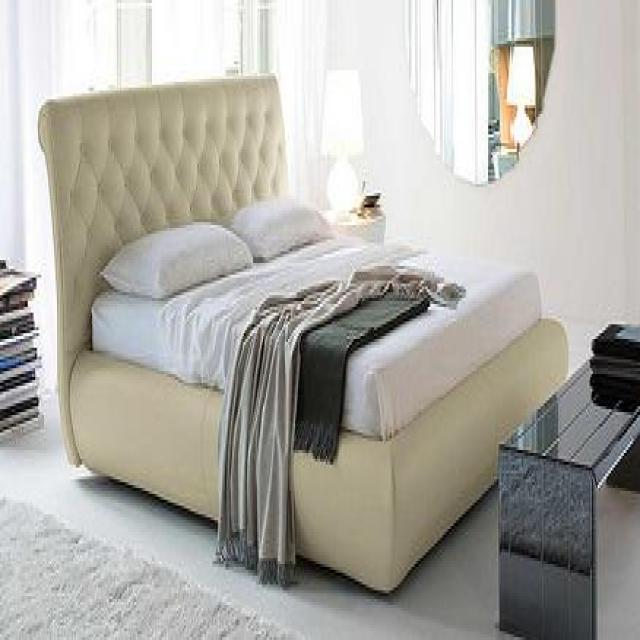bed: (36, 70, 568, 596)
